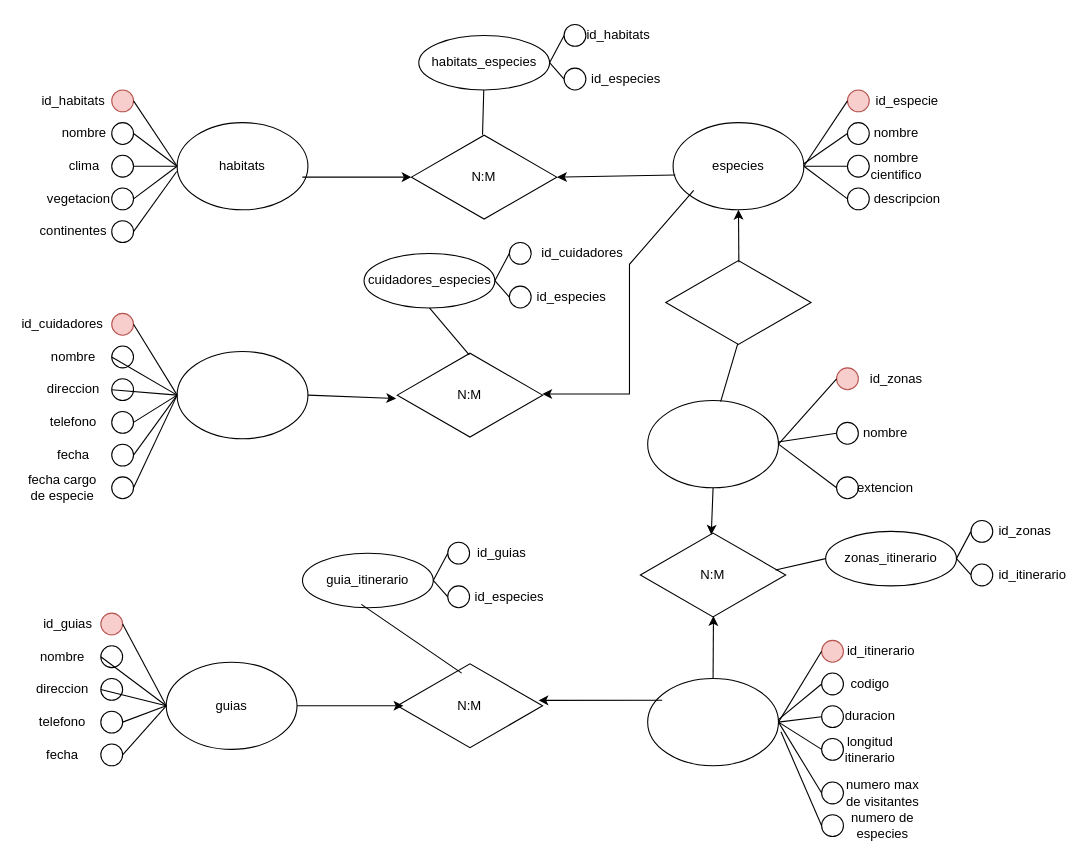
This 1086x860 diagram has some shape labels left out. The shapes that lost their labels are listed below. From the top down, each one's centre as x and y in pixels, then its label:
the point at 738,302: 1:N
the point at 242,394: cuidadores
the point at 712,443: zonas
the point at 712,721: itinerario
